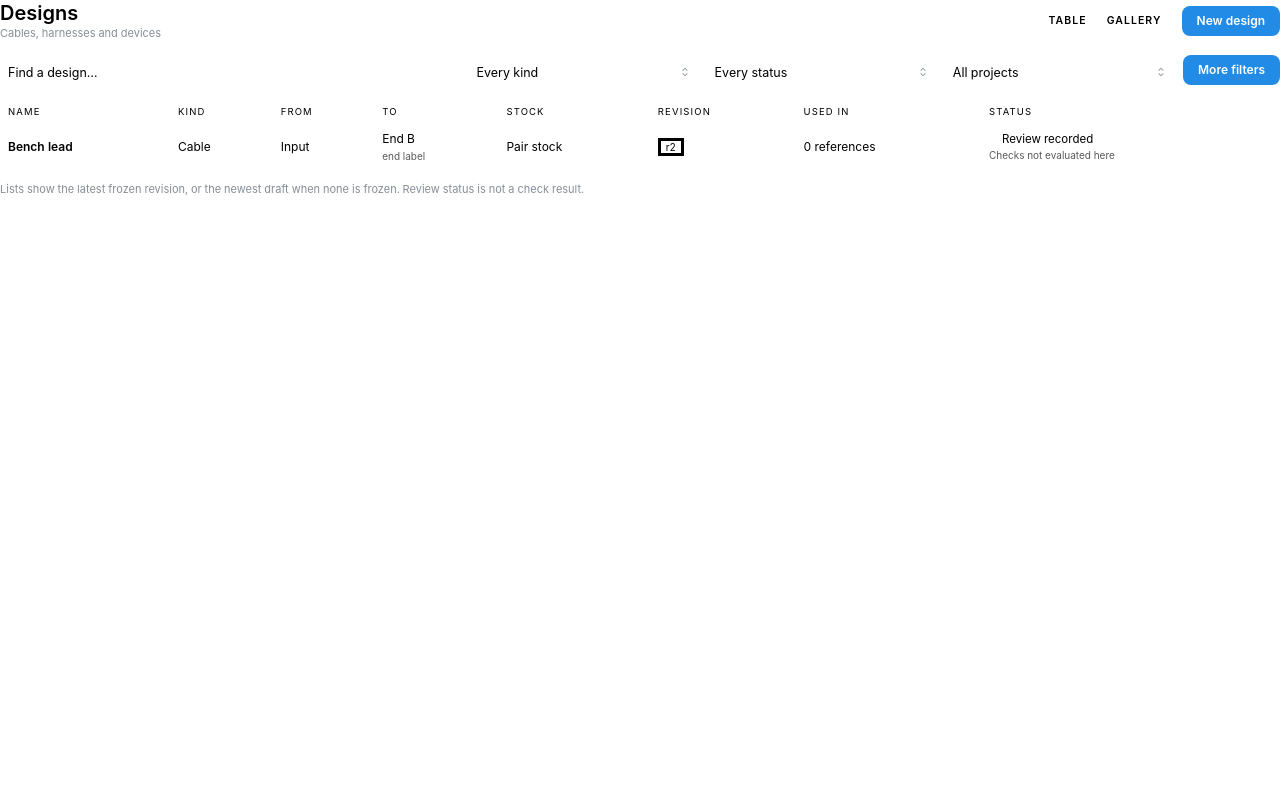
Test case: a transient server failure keeps retained content without claiming an authority loss
What coordinates should you click on to do the following:
click the row named "Bench lead, Cable"
I would click on:
 (194, 146)
Its box is [0,126,1279,168].
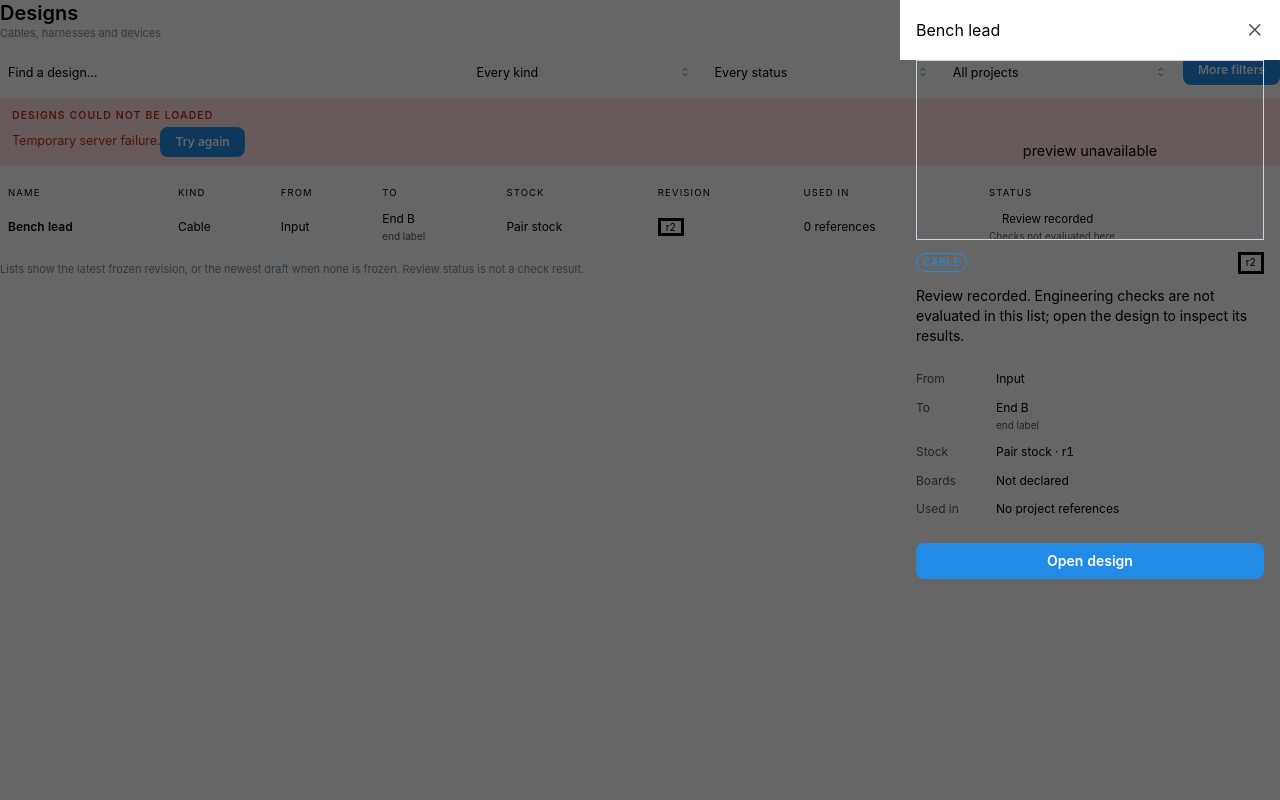
Expected: the row named "Bench lead, Cable" is shown, [0,206,1279,248]
Result: the message "Designs could not be loaded Temporary server failure. Try again" is shown at [0,99,1279,166]
Result: the dialog is shown at [900,0,1279,799]
